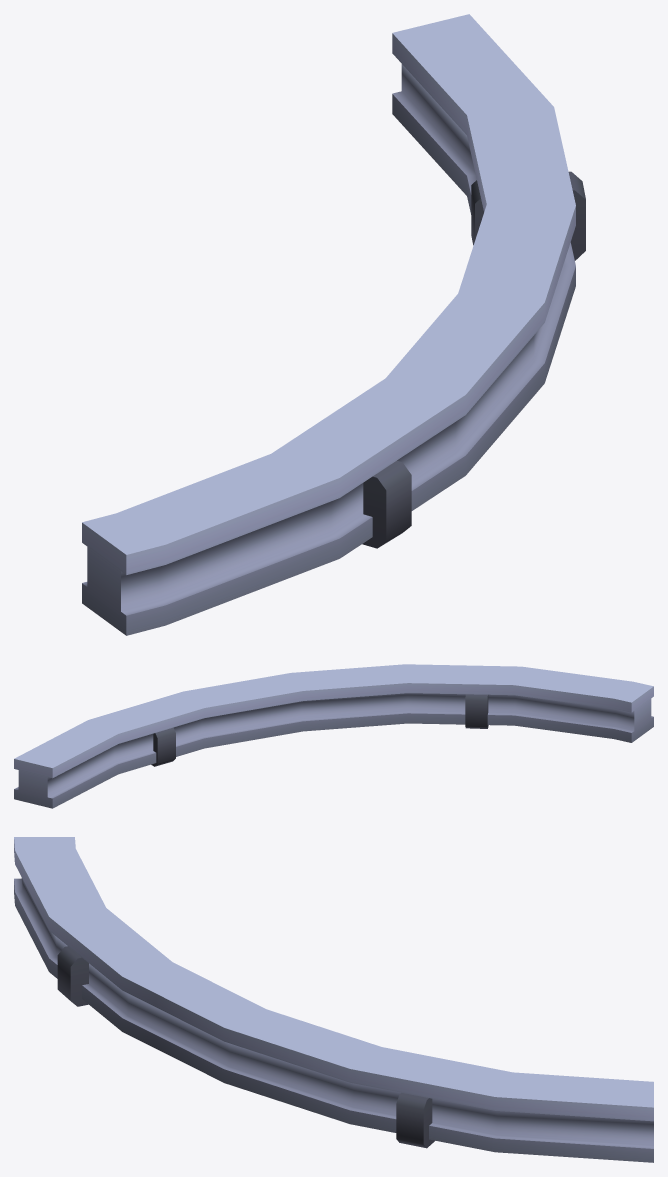
Rendered from kenney-coaster-coaster-monorail-corner-small.glb.
The picture shows the model from 3 angles, top to bottom: view 1: azimuth 30°, elevation 25°; view 2: azimuth 150°, elevation 25°; view 3: azimuth 270°, elevation 25°; orthographic projection. The views are drawn at different scales.
Parts seen in each view (by area): view 1: coaster-monorail-corner-small; view 2: coaster-monorail-corner-small; view 3: coaster-monorail-corner-small.
Part boxes in pixels (box(x1,y1,x2,y2)): coaster-monorail-corner-small: box(82, 14, 585, 635); coaster-monorail-corner-small: box(14, 664, 653, 808); coaster-monorail-corner-small: box(14, 837, 653, 1162).
Size of the model in its own units: 2.1 by 0.2251 by 2.1.
1 material, 1 textured.
